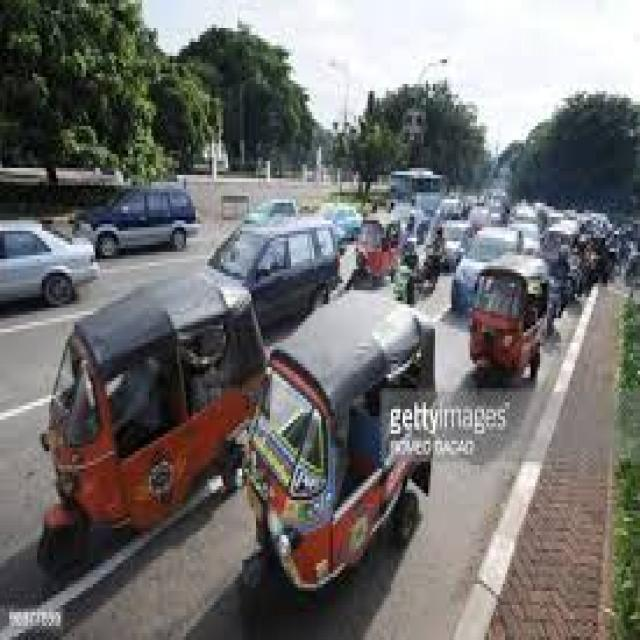car: (0, 185, 198, 259), (209, 220, 337, 329), (0, 220, 98, 308), (451, 227, 519, 315), (442, 199, 470, 269), (244, 199, 296, 224)
three wheeler: (242, 294, 507, 595), (40, 269, 263, 560), (470, 255, 545, 381), (358, 220, 396, 280)
